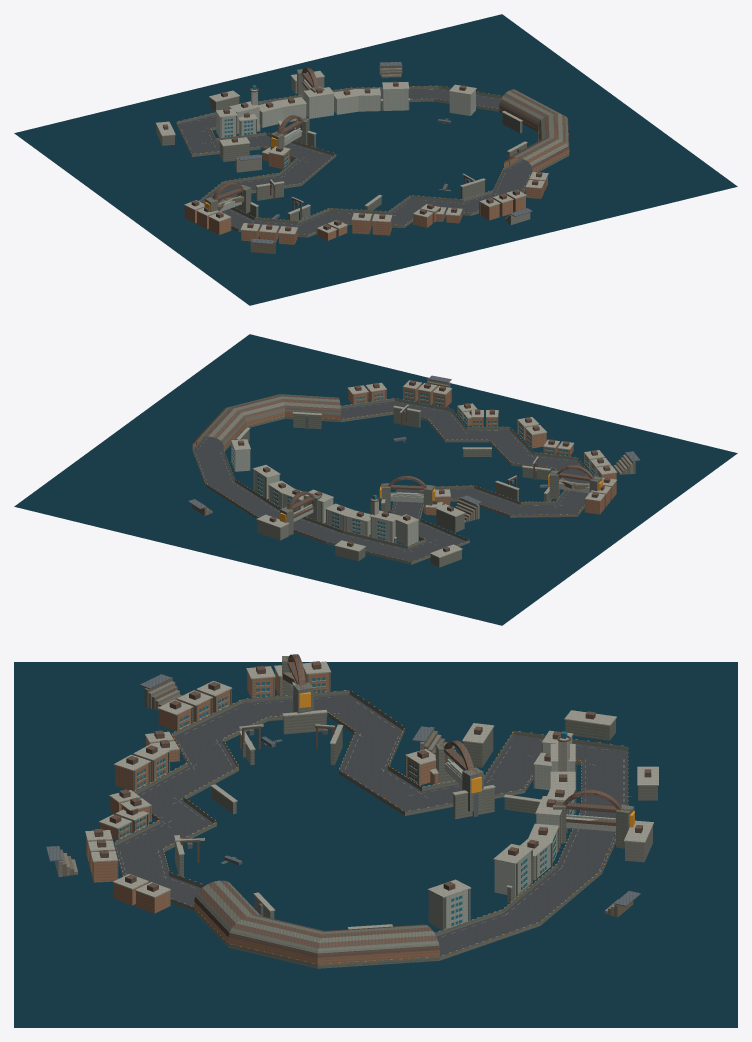
File: stormglass-causeway-revision2.glb
The picture shows the model from 3 angles, top to bottom: view 1: azimuth 30°, elevation 25°; view 2: azimuth 150°, elevation 25°; view 3: azimuth 270°, elevation 25°; orthographic projection. The views are drawn at different scales.
Parts seen in each view (by area): view 1: kit.base.ocean.00, kit.base.asphalt.00, kit.base.concrete.00, kit.base.teal.00, kit.base.salt.00, kit.base.brick.00, kit.base.steel.00, kit.seawall.quay-damp-horizontal.00, kit.terminal-facade.quay-damp-horizontal.00, kit.grandstand.cobble-sett.00, kit.terminal-facade.salt-limestone.00, kit.seawall.salt-limestone.00 (+1 smaller); view 2: kit.base.ocean.00, kit.base.asphalt.00, kit.base.concrete.00, kit.base.salt.00, kit.base.teal.00, kit.base.steel.00, kit.base.brick.00, kit.seawall.quay-damp-horizontal.00, kit.terminal-facade.quay-damp-horizontal.00, kit.base.glass.00, kit.terminal-facade.salt-limestone.00, kit.checkpoint-arch.oxidized-iron.00 (+3 smaller); view 3: kit.base.ocean.00, kit.base.asphalt.00, kit.base.concrete.00, kit.base.salt.00, kit.base.steel.00, kit.base.brick.00, kit.base.teal.00, kit.seawall.quay-damp-horizontal.00, kit.terminal-facade.salt-limestone.00, kit.terminal-facade.quay-damp-horizontal.00, kit.base.glass.00, kit.checkpoint-arch.oxidized-iron.00 (+5 smaller).
Boxes of the visible parts, x1,y1,x2,y2 form: kit.base.ocean.00: [14, 14, 737, 305]; kit.base.asphalt.00: [178, 88, 532, 234]; kit.base.concrete.00: [176, 69, 569, 238]; kit.base.teal.00: [216, 82, 475, 212]; kit.base.salt.00: [178, 82, 569, 234]; kit.base.brick.00: [184, 105, 569, 244]; kit.base.steel.00: [191, 72, 569, 231]; kit.seawall.quay-damp-horizontal.00: [247, 100, 526, 220]; kit.terminal-facade.quay-damp-horizontal.00: [156, 96, 249, 161]; kit.grandstand.cobble-sett.00: [235, 68, 530, 224]; kit.terminal-facade.salt-limestone.00: [155, 70, 324, 146]; kit.seawall.salt-limestone.00: [250, 98, 527, 214]; kit.base.ocean.00: [14, 334, 737, 625]; kit.base.asphalt.00: [193, 401, 589, 561]; kit.base.concrete.00: [192, 387, 602, 564]; kit.base.salt.00: [193, 380, 617, 561]; kit.base.teal.00: [232, 443, 589, 545]; kit.base.steel.00: [193, 380, 610, 520]; kit.base.brick.00: [192, 384, 616, 515]; kit.seawall.quay-damp-horizontal.00: [240, 408, 552, 543]; kit.terminal-facade.quay-damp-horizontal.00: [335, 509, 464, 567]; kit.base.glass.00: [232, 390, 600, 540]; kit.terminal-facade.salt-limestone.00: [256, 504, 465, 558]; kit.checkpoint-arch.oxidized-iron.00: [286, 465, 594, 518]; kit.base.ocean.00: [14, 662, 737, 1027]; kit.base.asphalt.00: [115, 694, 627, 956]; kit.base.concrete.00: [110, 656, 634, 968]; kit.base.salt.00: [85, 661, 628, 963]; kit.base.steel.00: [94, 656, 630, 958]; kit.base.brick.00: [86, 668, 439, 964]; kit.base.teal.00: [289, 682, 615, 929]; kit.seawall.quay-damp-horizontal.00: [175, 713, 539, 918]; kit.terminal-facade.salt-limestone.00: [462, 710, 658, 842]; kit.terminal-facade.quay-damp-horizontal.00: [463, 719, 657, 800]; kit.base.glass.00: [120, 677, 572, 925]; kit.checkpoint-arch.oxidized-iron.00: [288, 654, 621, 825].
Size of the model in its own units: 520 by 54.6 by 435.
Materials: 18 (14 with a texture image).
